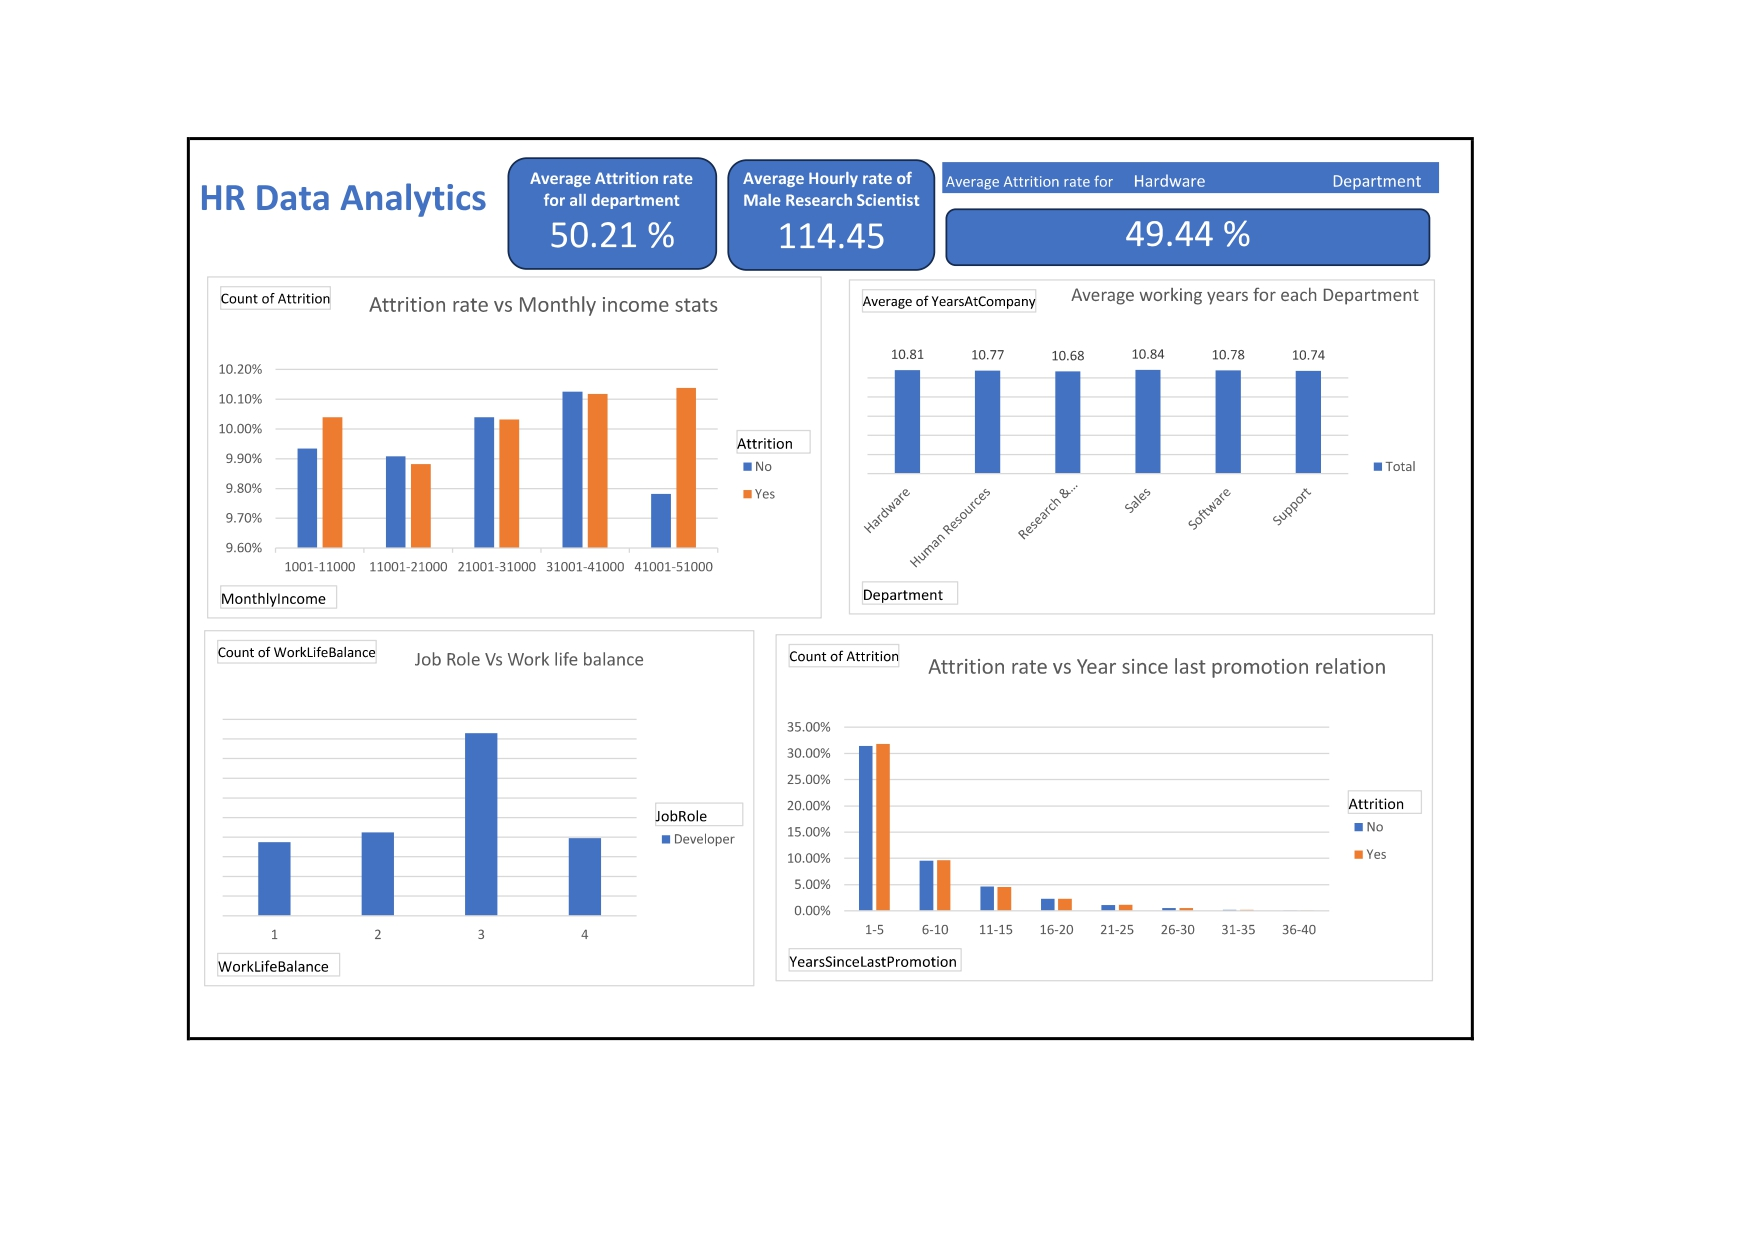

This screenshot's page, from the dashboard's own definition file:
{"tool":"tableau","page":{"name":"Dashboard 1","canvas":[1000,1000],"units":"permille","ordinal":0},"visuals":[{"type":"filter","title":"jobrolevswlb","param":"[federated.0or12nk0obl2kc1bubgt11ouwsu3].[none:JobRole:nk]","box":[819,7,117.7,55.2]},{"type":"dashboard-object","box":[943.3,8.2,41.6,47]},{"type":"worksheet","title":"title","mark":"Automatic","box":[4.8,9.4,555.2,71.7]},{"type":"blank","box":[560.1,9.4,435.1,71.7]},{"type":"filter","title":"attritionratebydepartment","param":"[federated.0or12nk0obl2kc1bubgt11ouwsu3].[none:Attrition:nk]","box":[572.1,9.4,112.9,57.6]},{"type":"filter","title":"attritionratebydepartment","param":"[federated.0or12nk0obl2kc1bubgt11ouwsu3].[none:Department:nk]","box":[695.2,9.4,112.9,56.4]},{"type":"worksheet","title":"total_employees","mark":"Automatic","box":[4.8,81.1,113.5,139.8]},{"type":"worksheet","title":"jobrolevswlb","mark":"Automatic","rows":["JobRole"],"cols":["WorkLifeBalance"],"box":[118.3,81.1,449.4,418.9]},{"type":"worksheet","title":"attritionratebydepartment","mark":"Automatic","rows":["Department"],"cols":["Attrition"],"box":[567.8,81.1,427.4,418.9]},{"type":"worksheet","title":"attrition_count","mark":"Automatic","box":[4.8,220.9,113.5,128.1]},{"type":"worksheet","title":"attritionrate","mark":"Automatic","box":[4.8,349,113.5,117.5]},{"type":"worksheet","title":"CurrentEmployees","mark":"Automatic","box":[4.8,466.5,113.5,149.2]},{"type":"worksheet","title":"avgworkingyearsbydep","mark":"Square","rows":["Department"],"box":[118.3,500,199.7,490.6]},{"type":"worksheet","title":"monthlyincomevsattritionrate","mark":"Automatic","cols":["Monthly Income (bin)"],"box":[318,500,348.4,490.6]},{"type":"worksheet","title":"attritionratevsyearsincelastpromotion","mark":"Circle","box":[666.4,500,328.7,490.6]},{"type":"worksheet","title":"avgageofemployees","mark":"Automatic","box":[4.8,615.8,113.5,166.9]},{"type":"worksheet","title":"avghourlyrateofmrs","mark":"Automatic","box":[4.8,782.6,113.5,208]}]}

Visuals, with their boxes on the dashboard's canvas, which has no fixed pixel size, in thousandths of its width and height (x1, y1, x2, y2). These are canvas units, not pixel positions in the 1755x1241 screenshot, which may show the page scaled, cropped or inside an application window:
"jobrolevswlb" filter: <region>819, 7, 937, 62</region>
dashboard-object: <region>943, 8, 985, 55</region>
"title" worksheet: <region>5, 9, 560, 81</region>
blank: <region>560, 9, 995, 81</region>
"attritionratebydepartment" filter: <region>572, 9, 685, 67</region>
"attritionratebydepartment" filter: <region>695, 9, 808, 66</region>
"total_employees" worksheet: <region>5, 81, 118, 221</region>
"jobrolevswlb" worksheet: <region>118, 81, 568, 500</region>
"attritionratebydepartment" worksheet: <region>568, 81, 995, 500</region>
"attrition_count" worksheet: <region>5, 221, 118, 349</region>
"attritionrate" worksheet: <region>5, 349, 118, 466</region>
"CurrentEmployees" worksheet: <region>5, 466, 118, 616</region>
"avgworkingyearsbydep" worksheet (Square marks): <region>118, 500, 318, 991</region>
"monthlyincomevsattritionrate" worksheet: <region>318, 500, 666, 991</region>
"attritionratevsyearsincelastpromotion" worksheet (Circle marks): <region>666, 500, 995, 991</region>
"avgageofemployees" worksheet: <region>5, 616, 118, 783</region>
"avghourlyrateofmrs" worksheet: <region>5, 783, 118, 991</region>
